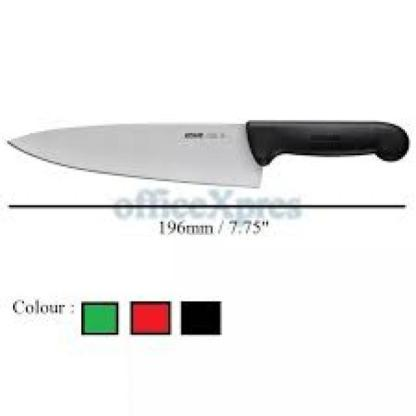Knife: (0, 84, 409, 204)
